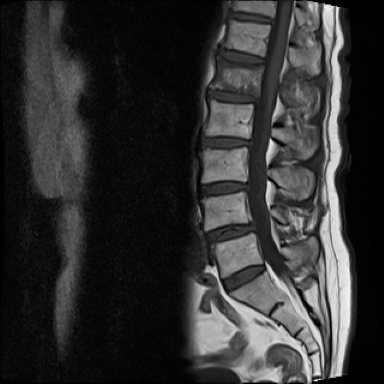Lumbar Disc Bulge (LDB): (197, 130, 259, 155), (193, 177, 255, 200)
Normal IVD: (217, 260, 269, 297), (211, 41, 269, 70)
Spinal Stenosis (SS): (239, 171, 255, 196), (245, 216, 262, 239), (243, 132, 258, 152), (248, 93, 265, 109), (266, 16, 281, 31)
Spondylolisthesis: (200, 75, 266, 131), (192, 211, 263, 261)
Thoracic Disc Bulge (TDB): (225, 5, 278, 29)
